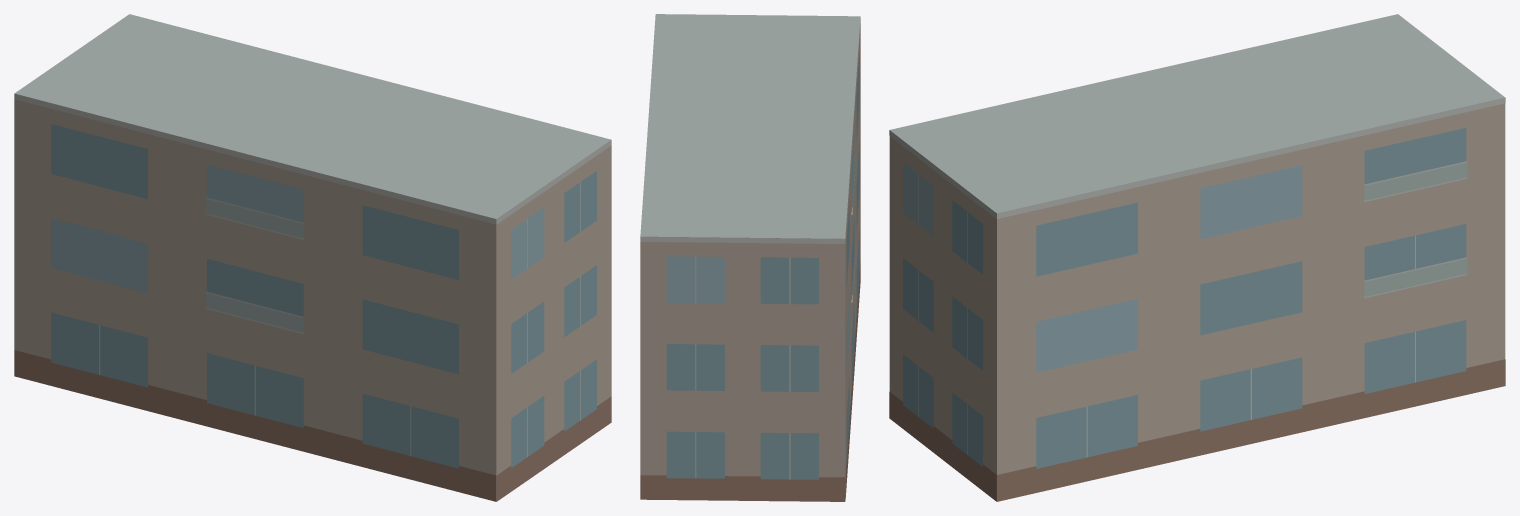
Rendered from survey-upis-32981741.glb.
3 views of the same model, side by side, from view 1: azimuth 30°, elevation 25°; view 2: azimuth 150°, elevation 25°; view 3: azimuth 270°, elevation 25° (orthographic). The views are drawn at different scales.
Parts seen in each view (by area): view 1: survey-upis-32981741.tmp; view 2: survey-upis-32981741.tmp; view 3: survey-upis-32981741.tmp.
Part boxes in pixels (x1,y1,x2,y2): survey-upis-32981741.tmp: [14, 14, 611, 501]; survey-upis-32981741.tmp: [640, 14, 860, 501]; survey-upis-32981741.tmp: [889, 14, 1505, 501].
Size of the model in its own units: 18.04 by 12.16 by 23.54.
